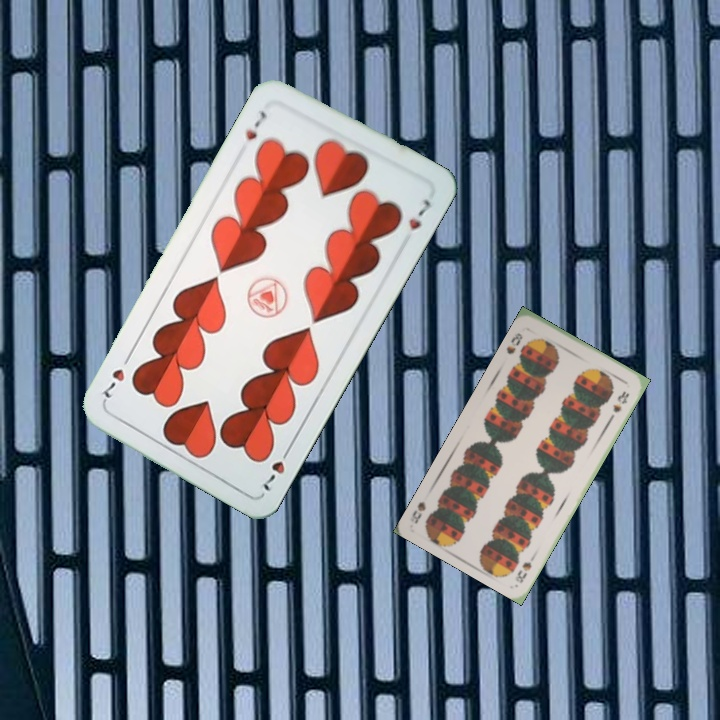H7: (259, 441, 294, 495), (241, 107, 270, 143)
S8: (511, 548, 540, 586), (502, 329, 525, 357)
